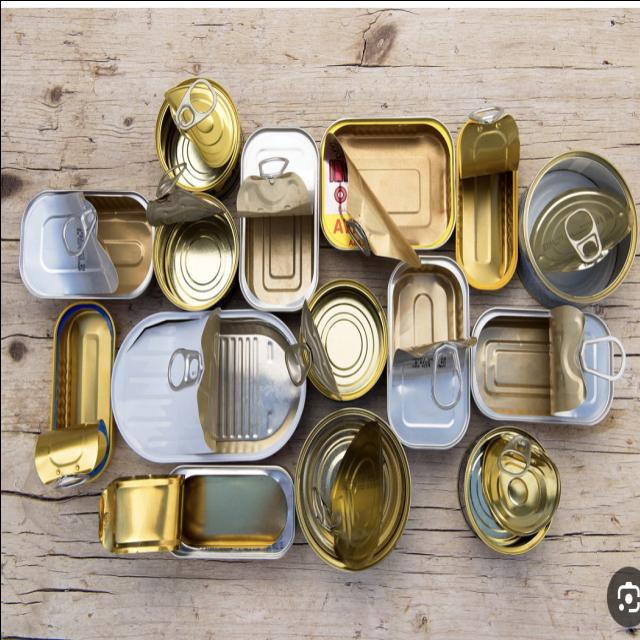can: (109, 303, 317, 467), (82, 455, 310, 573), (372, 245, 488, 463), (312, 98, 456, 266), (291, 400, 418, 578), (511, 138, 637, 310), (453, 307, 631, 418), (30, 298, 124, 496), (11, 176, 155, 302), (451, 421, 567, 572), (282, 263, 400, 405), (446, 85, 524, 296), (145, 61, 249, 196), (136, 178, 238, 314)
